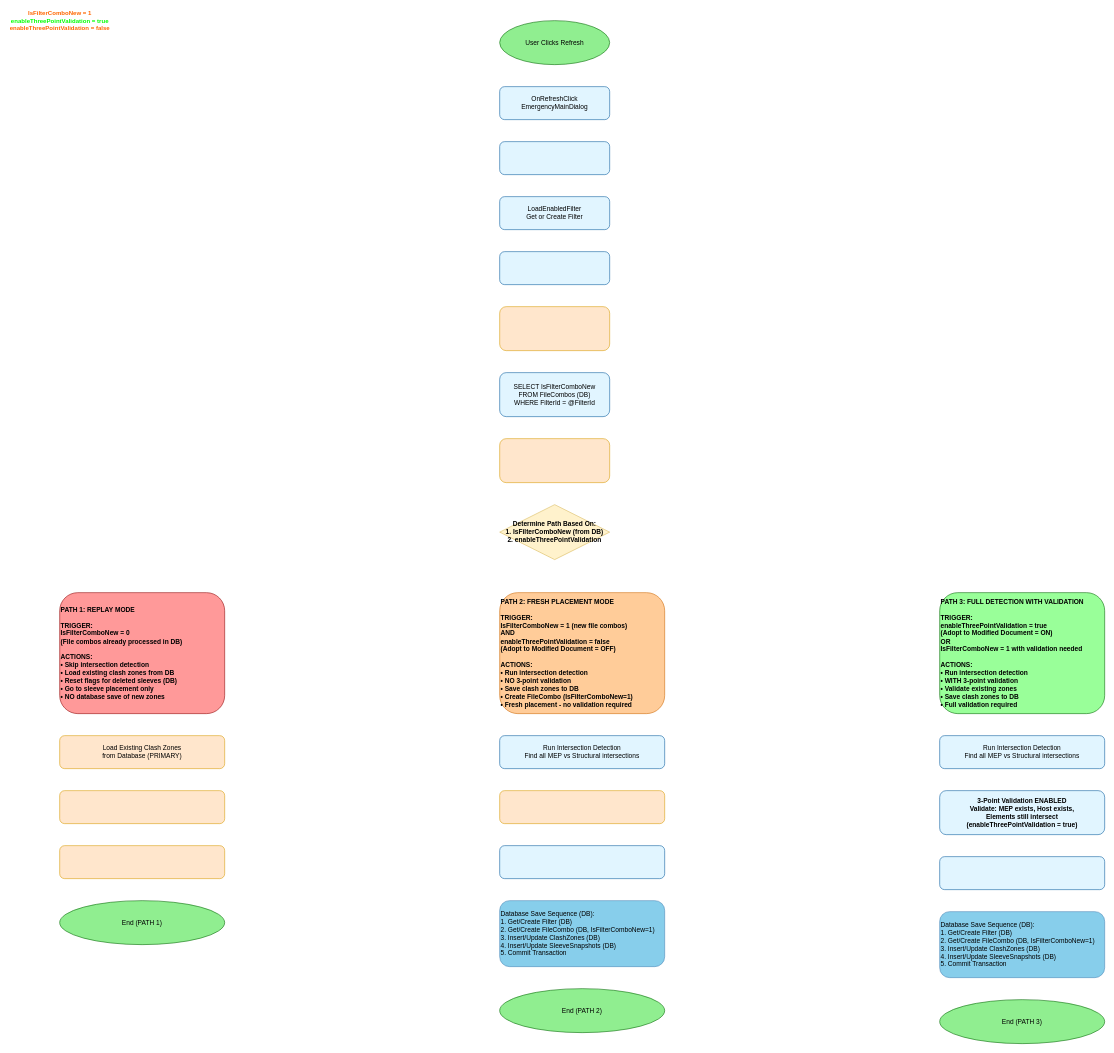
The diagram is 1114 pixels wide and 1053 high, and some of its shapes have lost their labels. Here are the shapes that lost their labels. From the top down, the centre of each, then its label:
At [554,158]: "RefreshServiceRefactored ExecuteRefresh".
At [554,268]: "Mark Filter as Enabled".
At [554,328]: "Check FileCombos Table (DB) IsFilterComboNew Flag".
At [554,460]: "Check Setting: Adopt to Modified Document (enableThreePointValidation)".
At [142,807]: "ResetFlagsForDeletedSleeves (DB) Mark deleted sleeves as unresolved".
At [582,807]: "SKIP 3-Point Validation (enableThreePointValidation = false)".
At [142,862]: "Skip MergeAndSave Go Directly to Place Sleeves".
At [582,862]: "MergeAndSave to Database Save all clash zones to DB".
At [1022,873]: "MergeAndSave to Database Save validated clash zones to DB".
